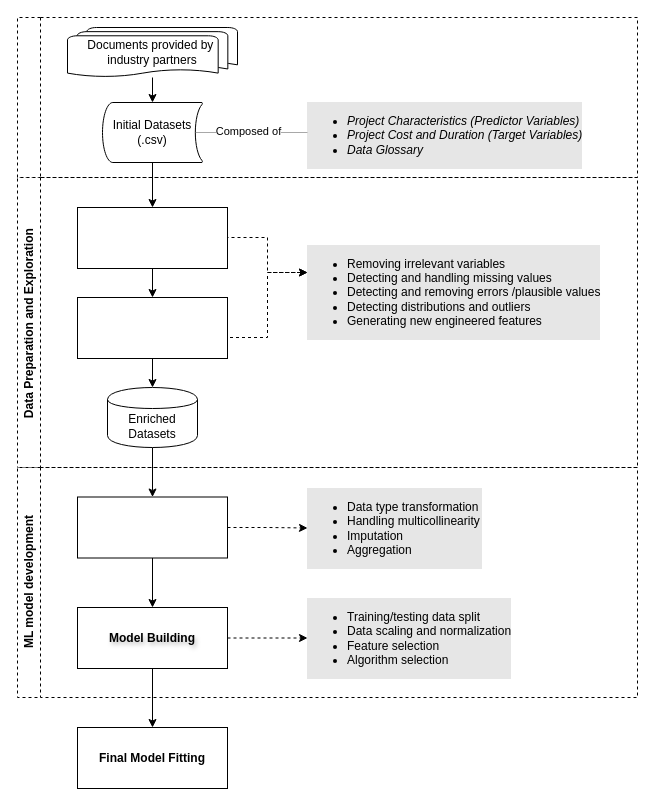
The diagram is 655 pixels wide and 806 high, and some of its shapes have lost their labels. The shapes that lost their labels are listed below. From the top down, each one's centre as x and y in pixels, then its label:
At (x=327, y=97): "Data Collation".
At (x=152, y=237): "Data Cleasing".
At (x=152, y=327): "Exploratory Data Analysis".
At (x=152, y=527): "Data Pre-processing".
